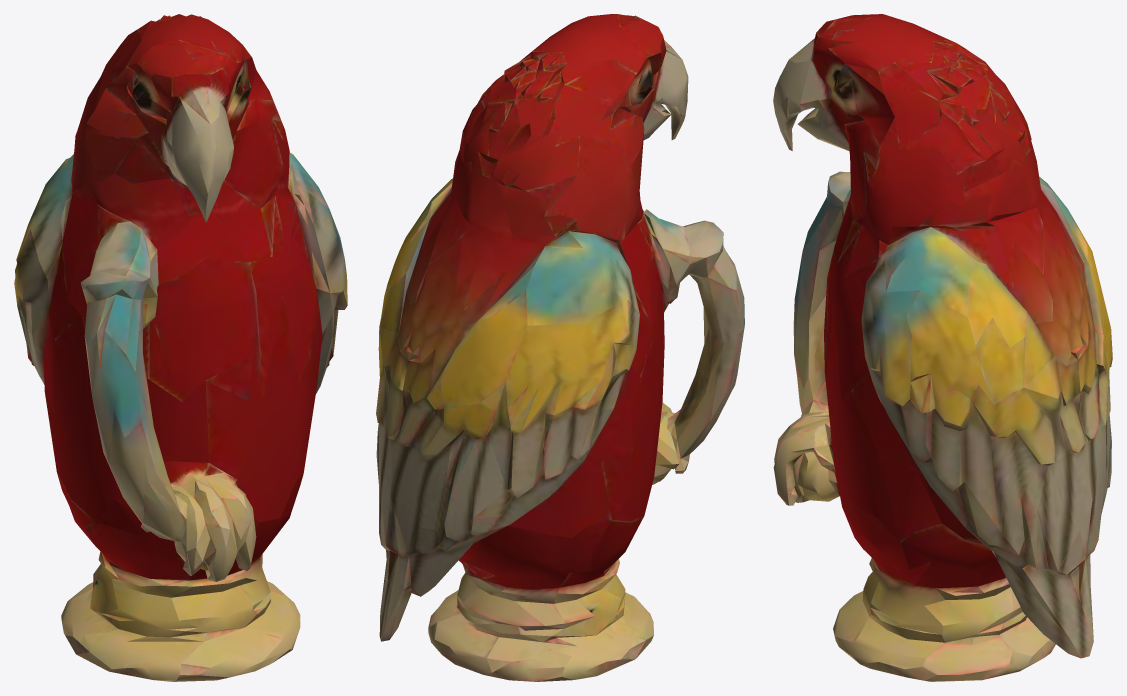
Rendered from parrot-mug.glb.
3 renders of one model, left to right at view 1: azimuth 30°, elevation 25°; view 2: azimuth 150°, elevation 25°; view 3: azimuth 270°, elevation 25°, orthographic. The views are drawn at different scales.
Visible parts, largest first — view 1: output_unwrapped; view 2: output_unwrapped; view 3: output_unwrapped.
Part boxes in pixels (x1,y1,x2,y2): output_unwrapped: [14, 14, 347, 681]; output_unwrapped: [376, 14, 744, 681]; output_unwrapped: [773, 14, 1112, 681].
Size of the model in its own units: 0.9439 by 1.9 by 0.9722.
1 material, 1 textured.
